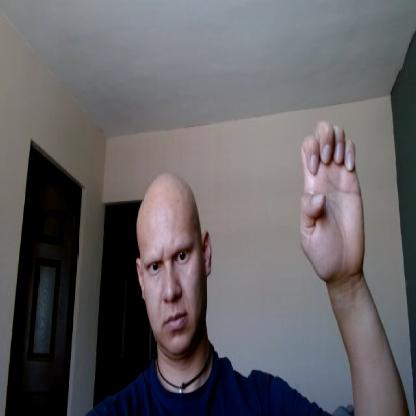E: (299, 120, 365, 277)
